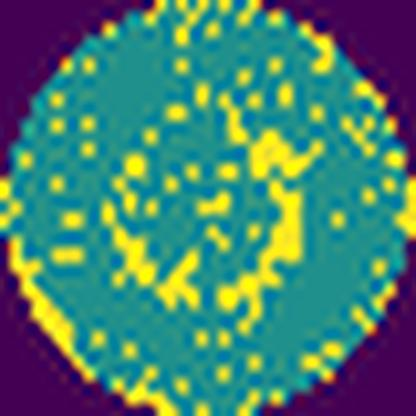Donut: (100, 82, 323, 321)
